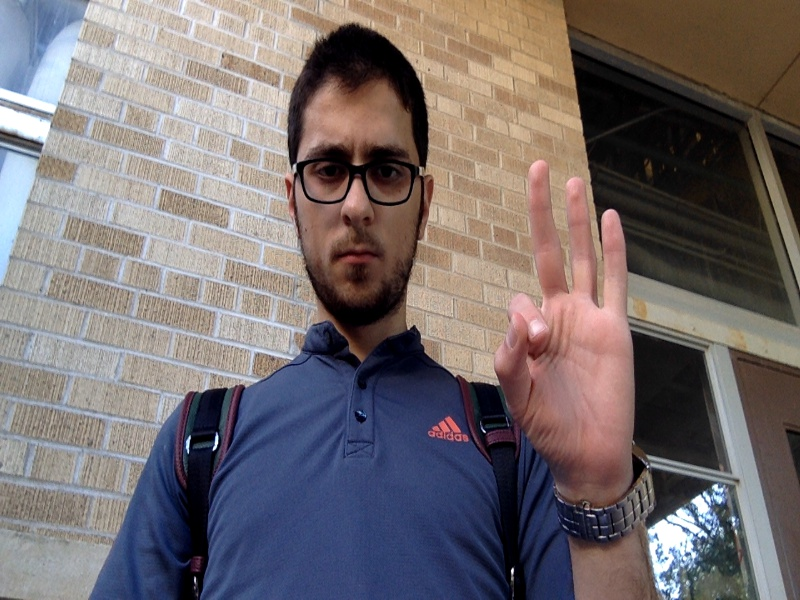3-hand: (496, 162, 635, 486)
